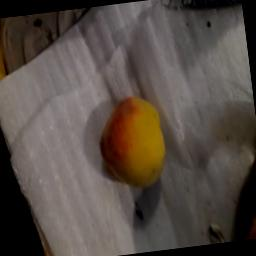Peach Unripe: (81, 84, 186, 204)
